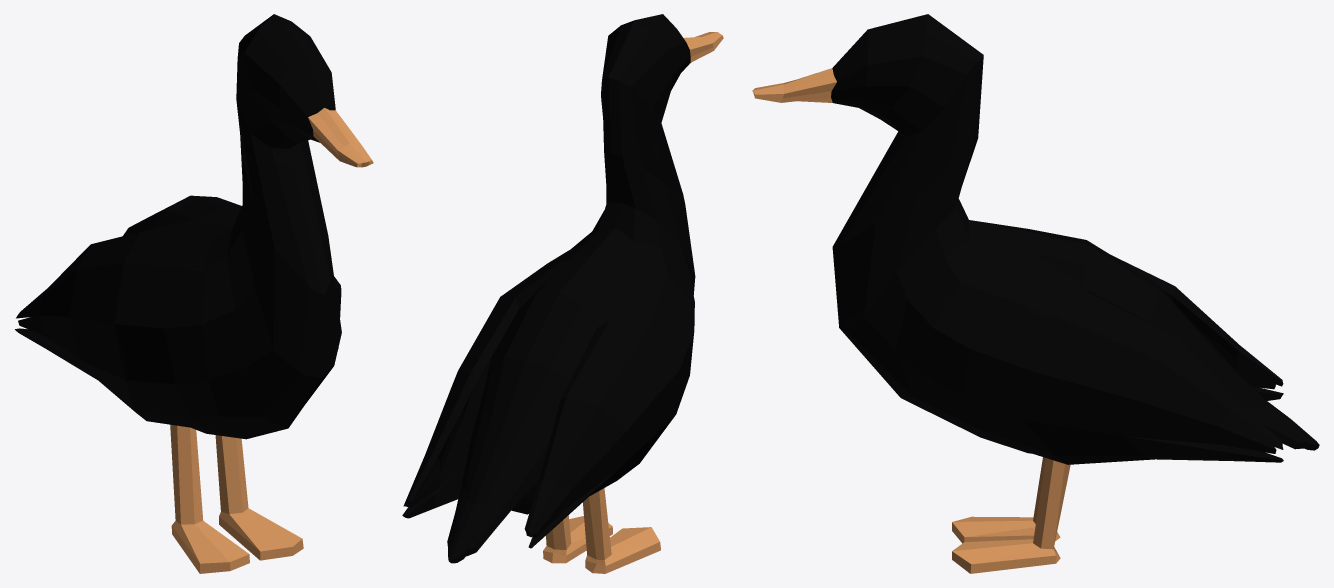
The model's file is Duck-transformed.glb.
3 views of the same model, side by side, from view 1: azimuth 30°, elevation 25°; view 2: azimuth 150°, elevation 25°; view 3: azimuth 270°, elevation 25° (orthographic). The views are drawn at different scales.
Parts seen in each view (by area): view 1: 03duckFinal; view 2: 03duckFinal; view 3: 03duckFinal.
Part boxes in pixels (x1,y1,x2,y2): 03duckFinal: (15, 14, 373, 573); 03duckFinal: (402, 14, 723, 573); 03duckFinal: (752, 14, 1319, 573).
Size of the model in its own units: 0.2029 by 0.5174 by 0.4966.
1 material, 1 textured.
